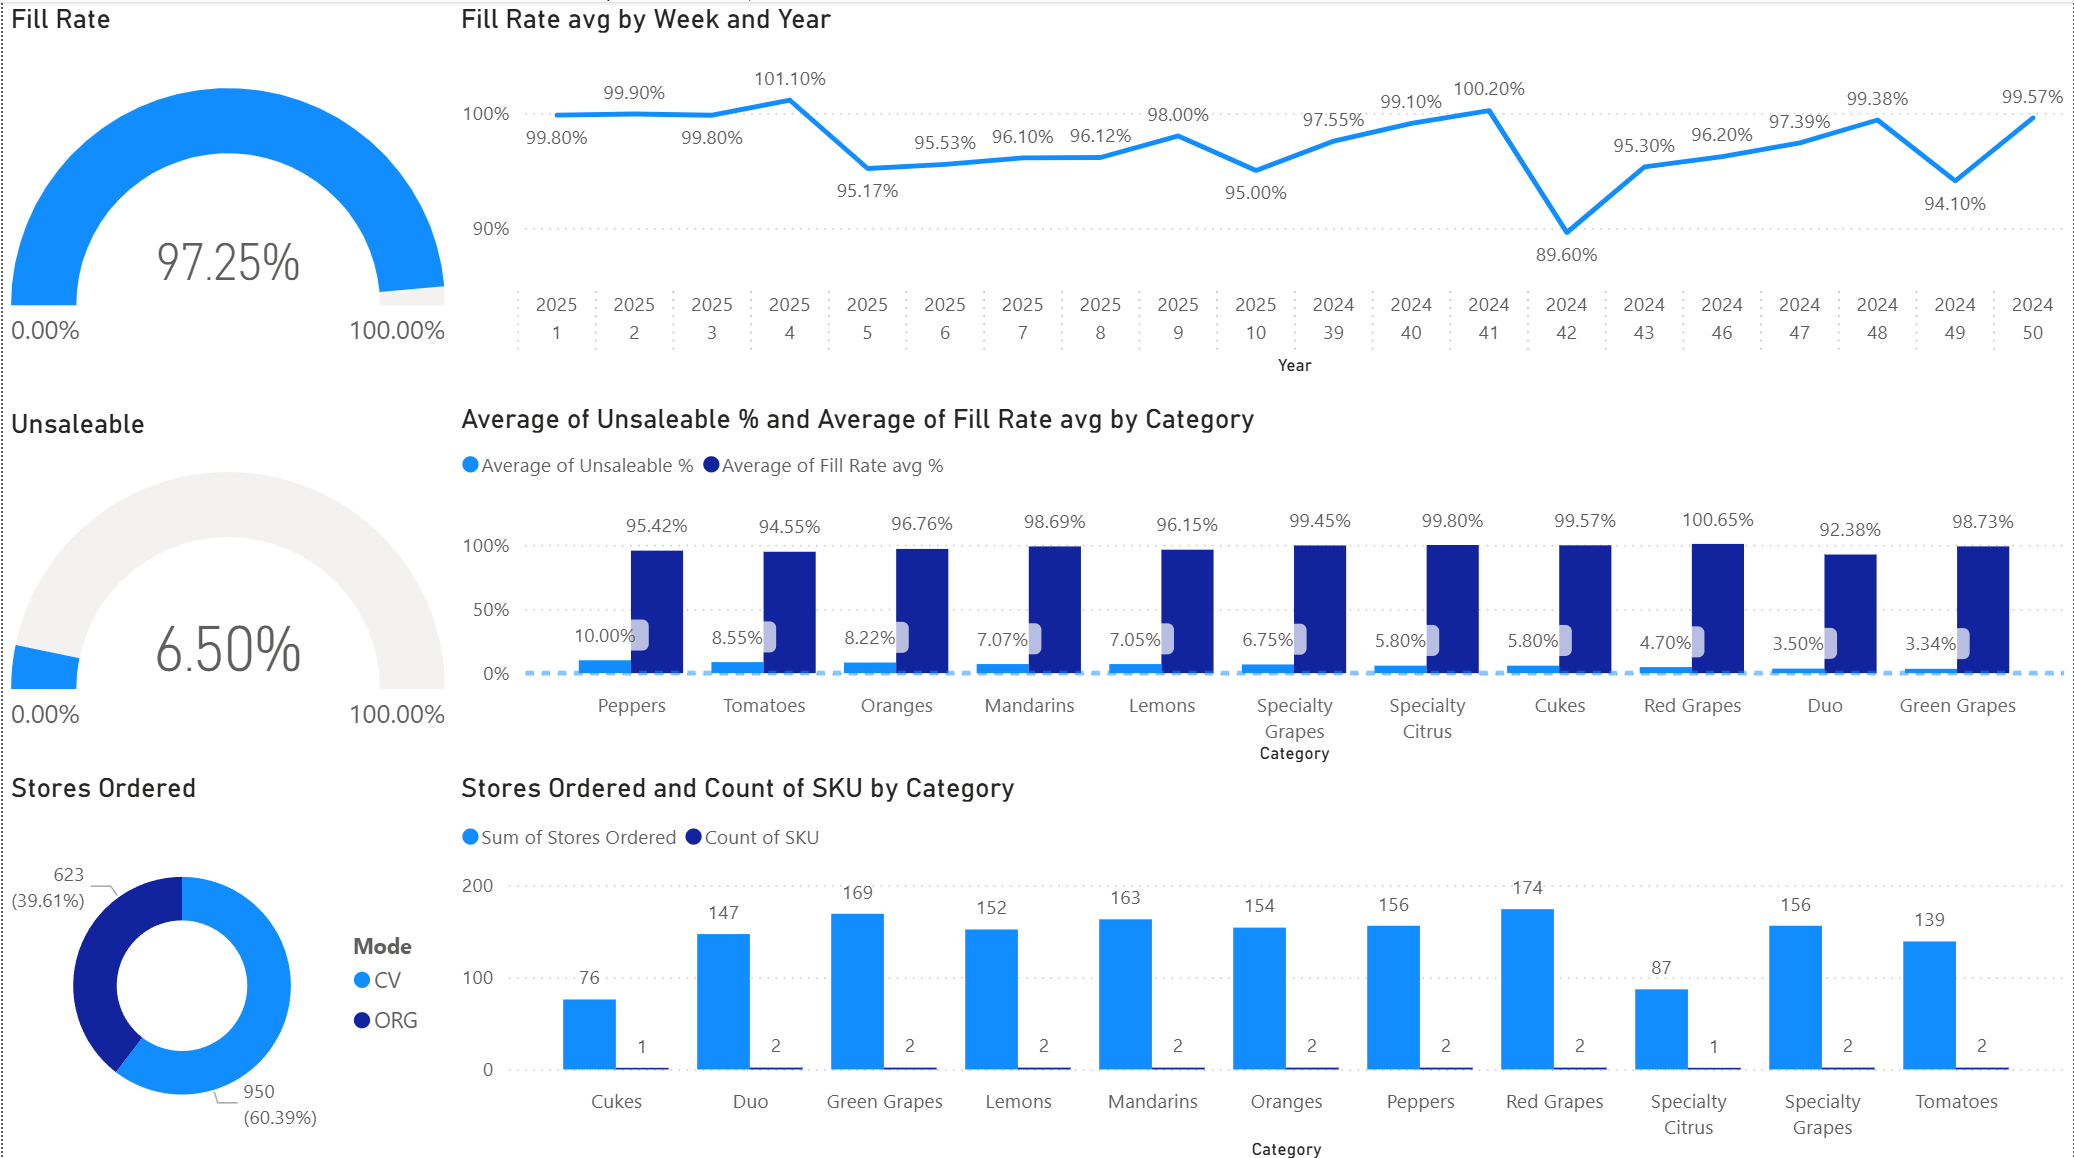

The dashboard page shown, as its layout file describes it:
{"tool":"powerbi","page":{"name":"Page 1","canvas":[1280,720],"ordinal":0},"visuals":[{"type":"lineChart","title":"Fill Rate avg  by Week and Year","fields":{"Y":["Avg(supply_chain_dashboard_raw_data1.Fill Rate avg)"],"Category":["supply_chain_dashboard_raw_data1.Week","supply_chain_dashboard_raw_data1.Date.Variation.Date Hierarchy.Year"]},"box":[278.5,0,1001.5,235.4],"z":0},{"type":"lineClusteredColumnComboChart","title":"Average of Unsaleable % and Average of Fill Rate avg by Category","fields":{"Category":["supply_chain_dashboard_raw_data1.Category"],"Y":["Avg(supply_chain_dashboard_raw_data1.Unsaleable %)","Avg(supply_chain_dashboard_raw_data1.Fill Rate avg %)"]},"box":[278.5,247.7,1001.5,227.7],"z":1000},{"type":"gauge","title":"Fill Rate","fields":{"Y":["Avg(supply_chain_dashboard_raw_data1.Fill Rate avg %)"]},"box":[0,0,278.5,250.8],"z":2000},{"type":"gauge","title":"Unsaleable","fields":{"Y":["Avg(supply_chain_dashboard_raw_data1.Unsaleable %)"]},"box":[0,250.8,278.5,224.6],"z":3000},{"type":"clusteredColumnChart","title":"Stores Ordered and Count of SKU by Category","fields":{"Category":["supply_chain_dashboard_raw_data1.Category","supply_chain_dashboard_raw_data1.Sub-Category"],"Y":["Sum(supply_chain_dashboard_raw_data1.Stores Ordered)","CountNonNull(supply_chain_dashboard_raw_data1.SKU)"]},"box":[278.5,475.4,1001.5,244.6],"z":4000},{"type":"donutChart","title":"Stores Ordered","fields":{"Category":["supply_chain_dashboard_raw_data1.Mode"],"Y":["Sum(supply_chain_dashboard_raw_data1.Stores Ordered)"]},"box":[0,475.4,278.5,244.6],"z":5000}]}

Visuals, with their boxes in screenshot pixels (x1, y1, x2, y2), scaled from the page's 1280x720 canvas onto the 2074x1158 screenshot:
"Fill Rate avg  by Week and Year" lineChart: left=451, top=0, right=2073, bottom=379
"Average of Unsaleable % and Average of Fill Rate avg by Category" lineClusteredColumnComboChart: left=451, top=398, right=2073, bottom=765
"Fill Rate" gauge: left=0, top=0, right=451, bottom=403
"Unsaleable" gauge: left=0, top=403, right=451, bottom=765
"Stores Ordered and Count of SKU by Category" clusteredColumnChart: left=451, top=765, right=2073, bottom=1157
"Stores Ordered" donutChart: left=0, top=765, right=451, bottom=1157
